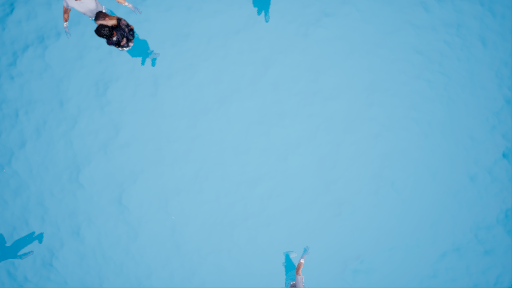person: (90, 14, 160, 69)
